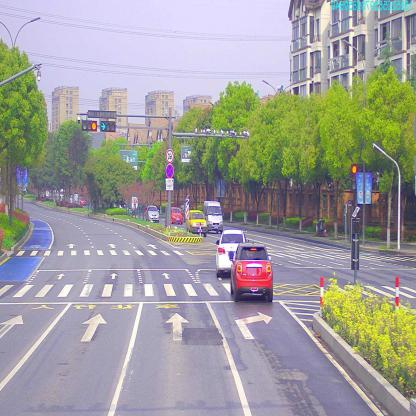traffic-light: (101, 121, 116, 132), (82, 120, 97, 130)
